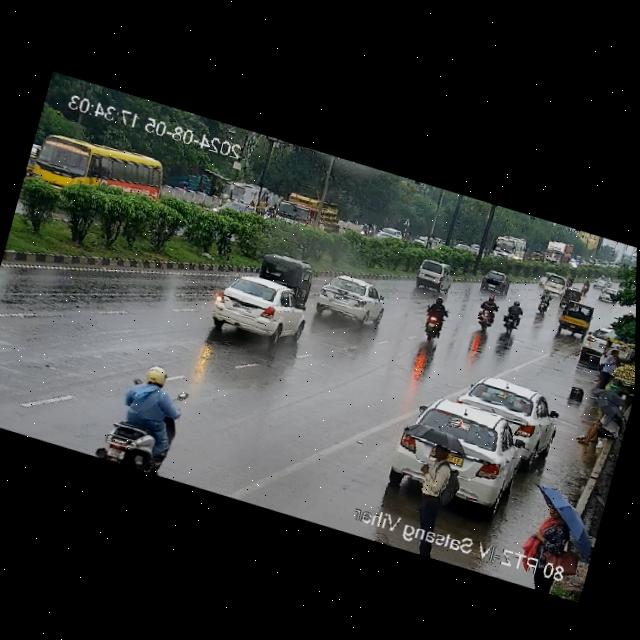bus: (24, 119, 172, 217), (218, 174, 269, 217), (489, 230, 529, 267)
car: (393, 382, 551, 528), (451, 368, 560, 455), (206, 267, 311, 351), (309, 267, 389, 329), (255, 247, 319, 297), (409, 254, 457, 297), (551, 296, 595, 339), (573, 320, 613, 364), (477, 267, 514, 297), (534, 270, 568, 298), (548, 279, 579, 302), (557, 285, 584, 306), (597, 284, 620, 306), (591, 271, 613, 291)
motorcycle: (89, 350, 201, 481), (412, 290, 458, 343), (469, 291, 504, 333), (496, 298, 528, 339), (533, 289, 553, 313), (359, 222, 376, 239), (579, 278, 590, 295)
person: (403, 435, 466, 527), (527, 498, 584, 570), (574, 402, 624, 453), (591, 337, 624, 392)
truck: (263, 186, 340, 238), (538, 237, 576, 271)
